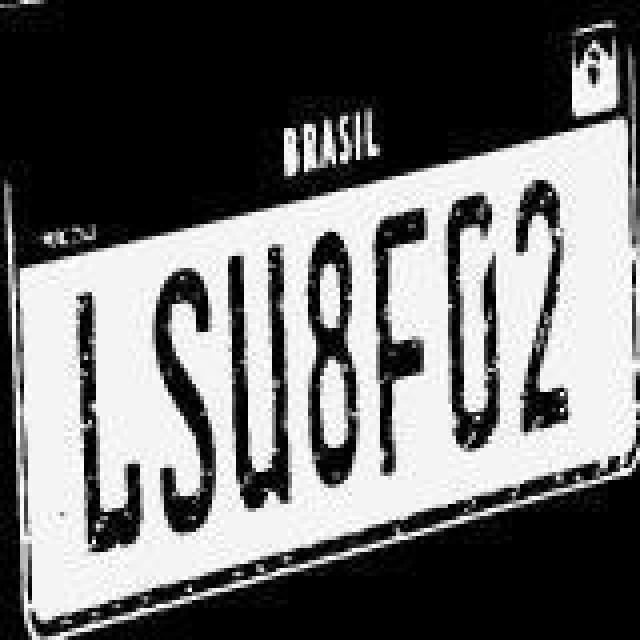2: (516, 178, 572, 438)
8: (300, 218, 356, 510)
D: (452, 192, 508, 456)
F: (372, 204, 428, 500)
L: (68, 274, 140, 558)
S: (154, 238, 214, 538)
U: (226, 222, 294, 530)
